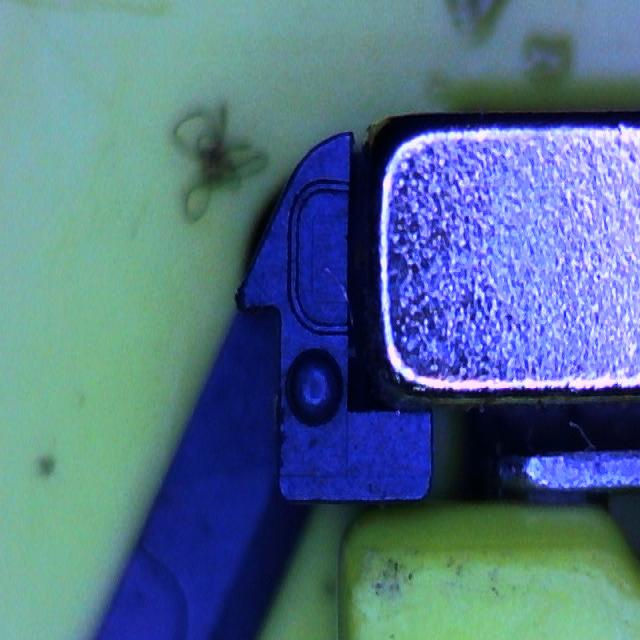noResin: (287, 178, 355, 338)
